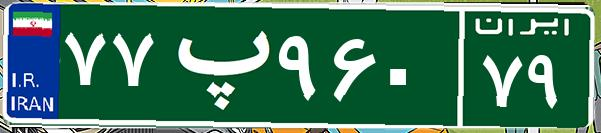0: (385, 28, 445, 110)
6: (330, 28, 385, 110)
7: (57, 26, 110, 107), (475, 38, 525, 113), (110, 28, 158, 105)
9: (273, 28, 330, 110), (525, 38, 570, 115)
پ: (158, 15, 273, 115)
